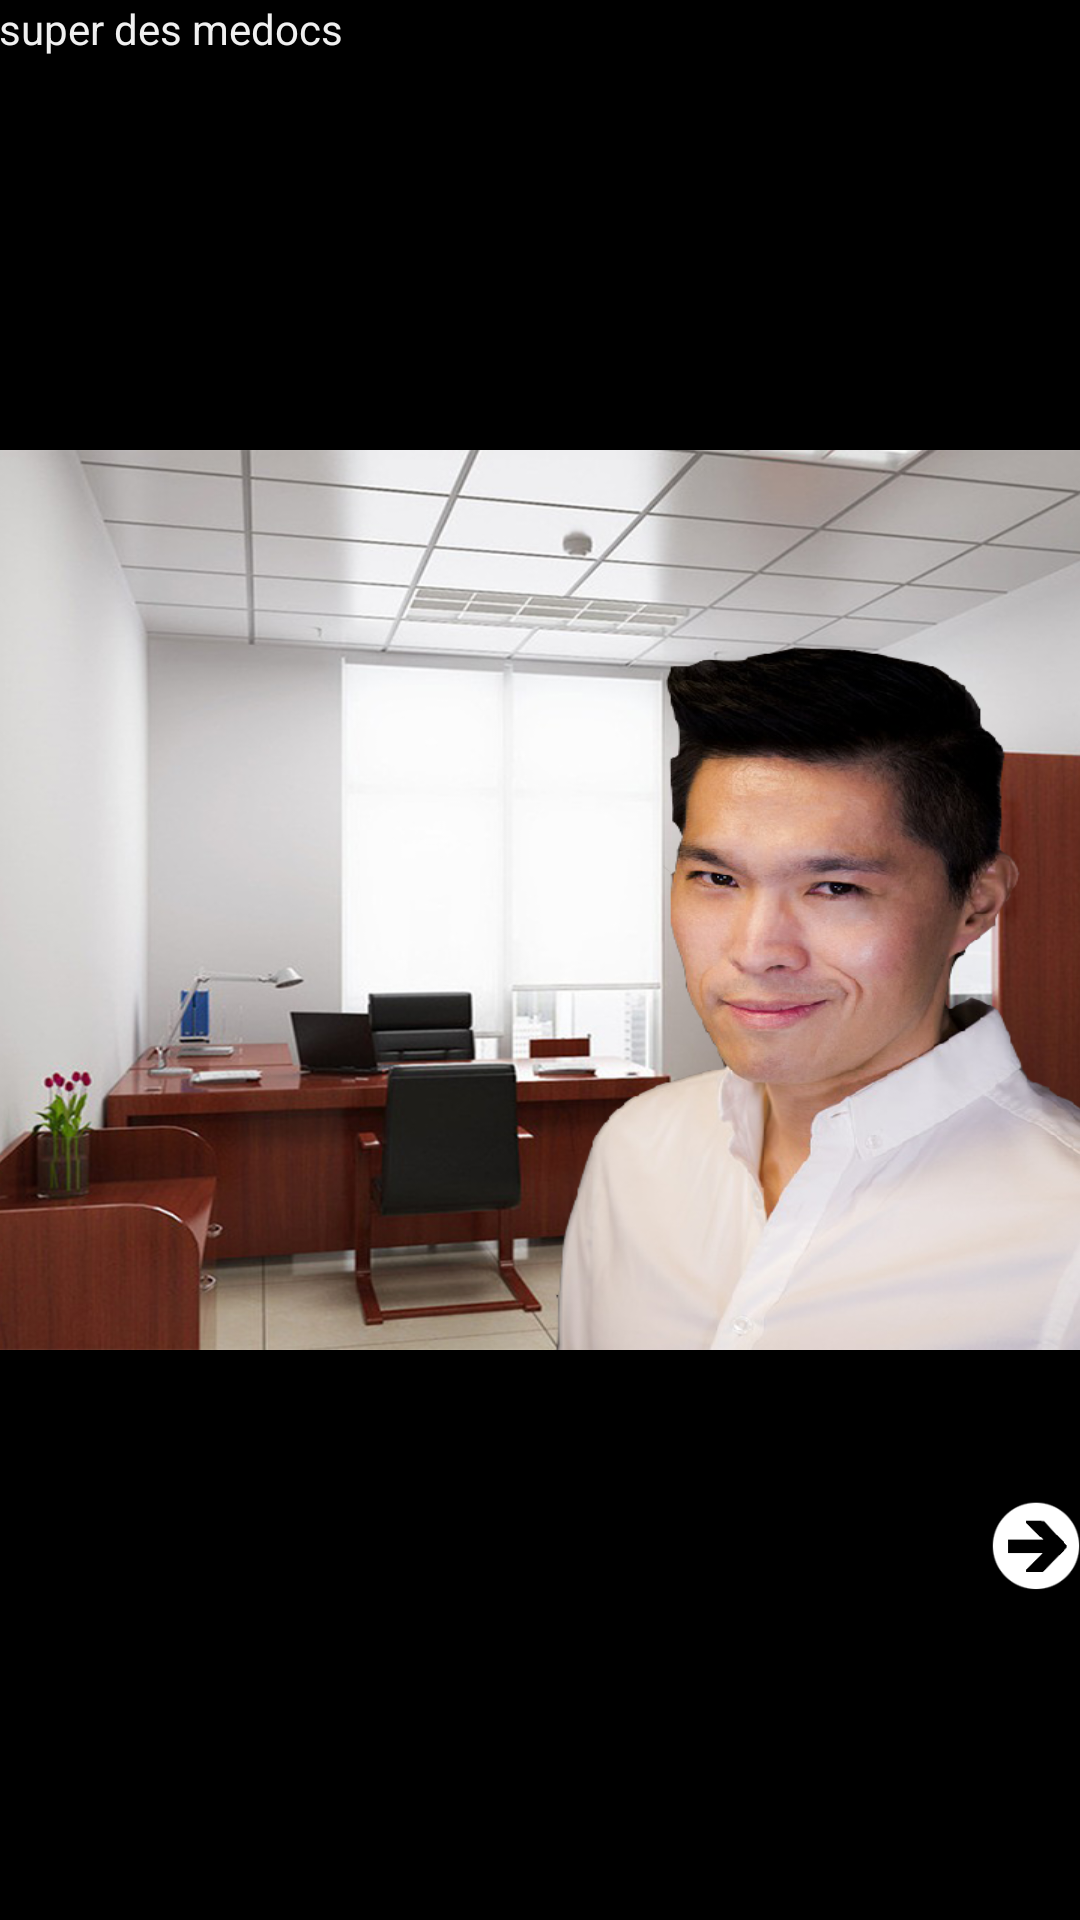

Icons on this 1080x1920 Android screen, each with its box as [x1,y1,x2,y2]:
bouton fleche droite: [992,1502,1080,1589]
